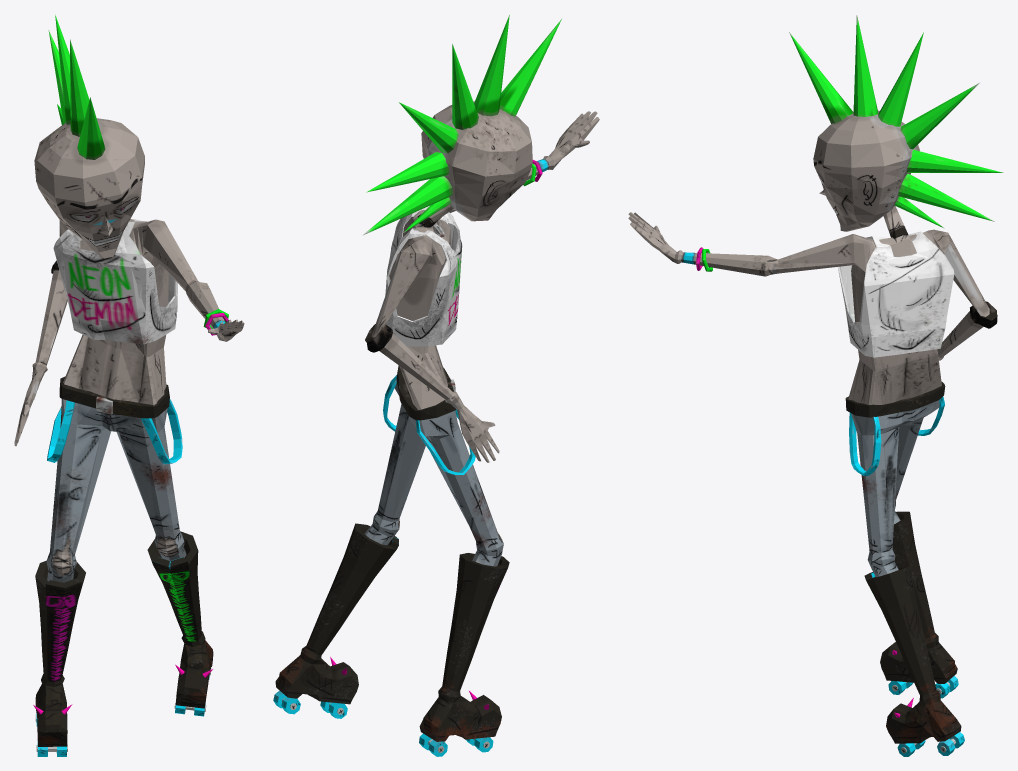
File: punkAnimation_000021.obj
3 renders of one model, left to right at view 1: azimuth 30°, elevation 25°; view 2: azimuth 150°, elevation 25°; view 3: azimuth 270°, elevation 25°, orthographic. The views are drawn at different scales.
Parts seen in each view (by area): view 1: Cube.004_Cube.003; view 2: Cube.004_Cube.003; view 3: Cube.004_Cube.003.
Part boxes in pixels (left/top/right/bottom): Cube.004_Cube.003: left=14, top=15, right=244, bottom=756; Cube.004_Cube.003: left=273, top=15, right=599, bottom=756; Cube.004_Cube.003: left=628, top=15, right=1003, bottom=756.
Size of the model in its own units: 2.24 by 7.38 by 3.73.
